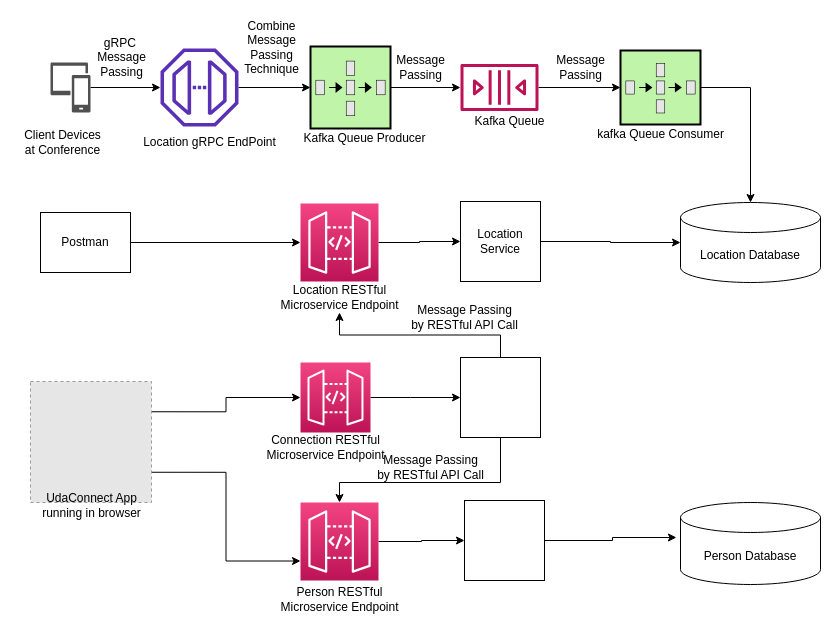
Some shapes in this 838 by 631 pixel diagram are drawn without their labels. Grey dashed boxes stand in for pictures. The shapes that lost their labels are listed below. From the top down, each one's centre as x and y in pixels, then its label:
At (500,397): "Connection Service".
At (504,540): "Person Service".
